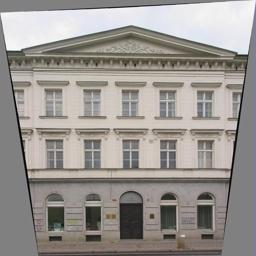building: (14, 14, 245, 243)
